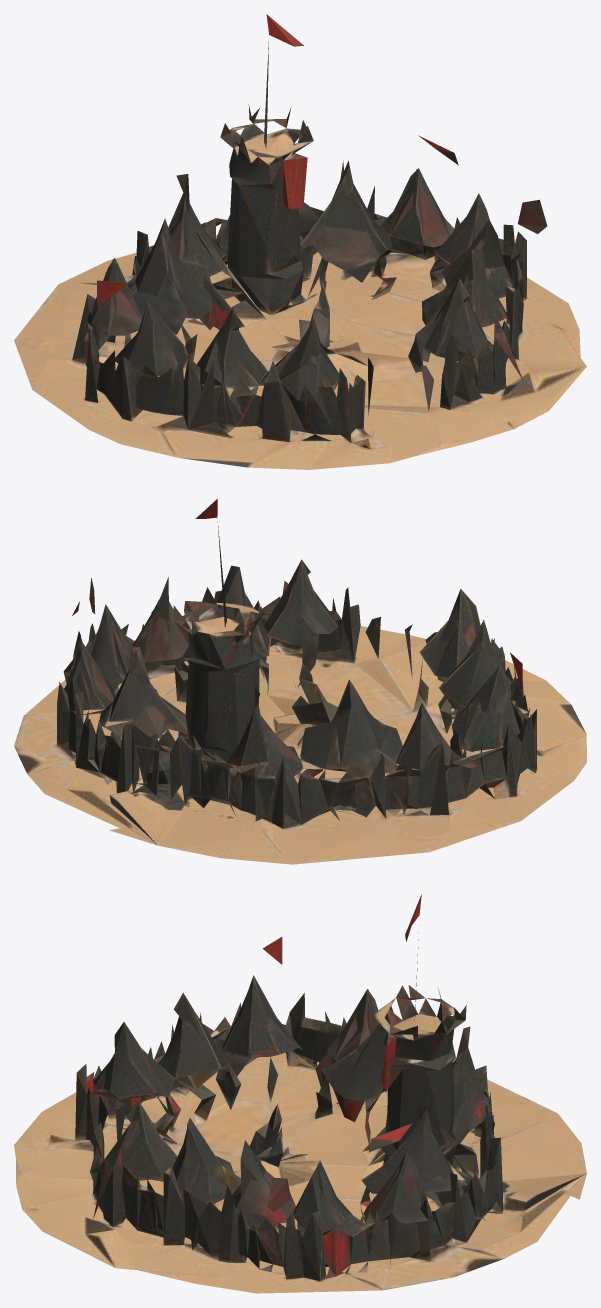
File: gobcamp.glb
3 views of the same model, one above another, from view 1: azimuth 30°, elevation 25°; view 2: azimuth 150°, elevation 25°; view 3: azimuth 270°, elevation 25° (orthographic). The views are drawn at different scales.
Bounding box in the file's own units: 1.89 × 1.05 × 1.88.
1 material, 1 textured.
